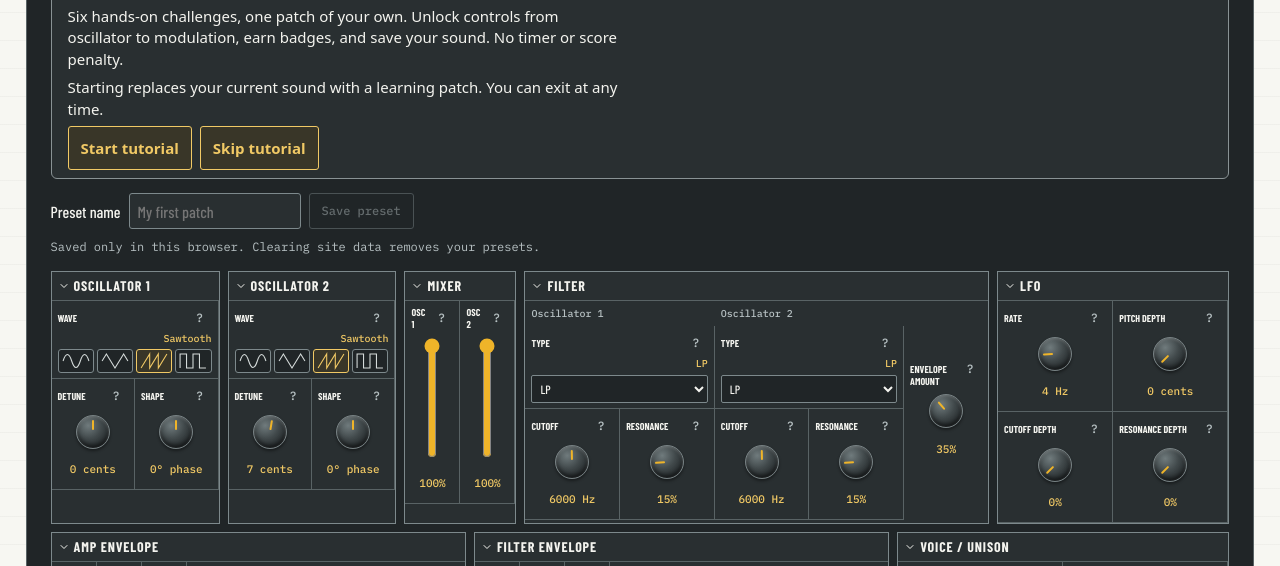
it: PatchGator › selects graphical waveforms independently and restores their defaults and presets
(page scrolled)
Check: the radio button named "Sawtooth" is checked, box 136,349 -> 172,373
Click the radio button named "Square": coordinates (193, 361) 175,349 -> 212,373
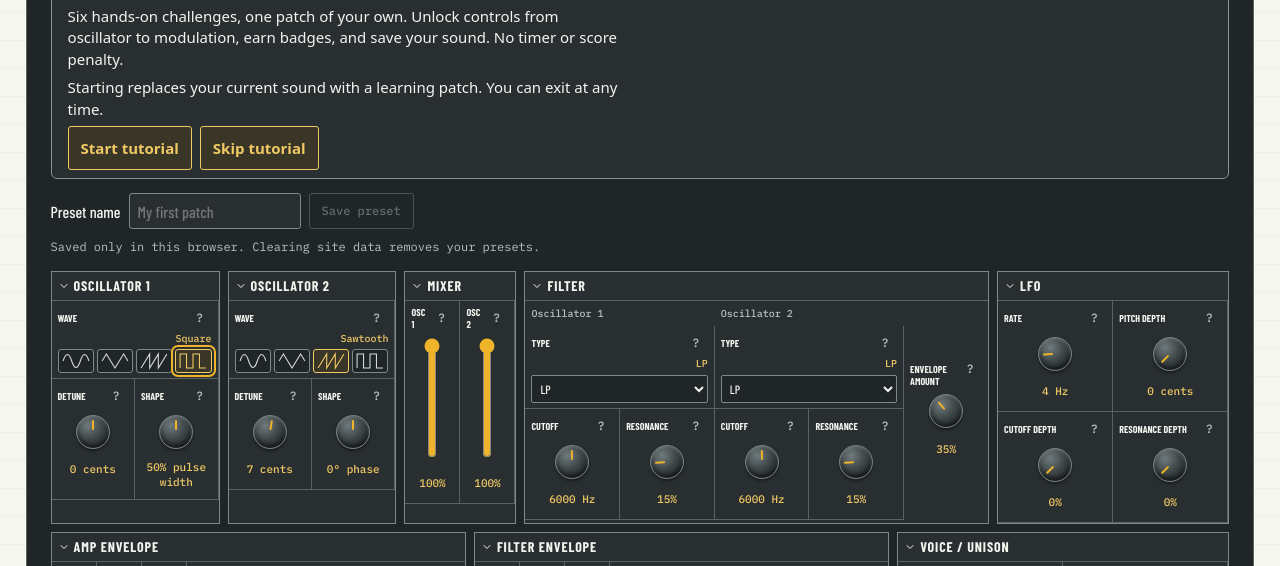
Click the radio button named "Sine": coordinates (253, 361) 234,349 -> 271,373
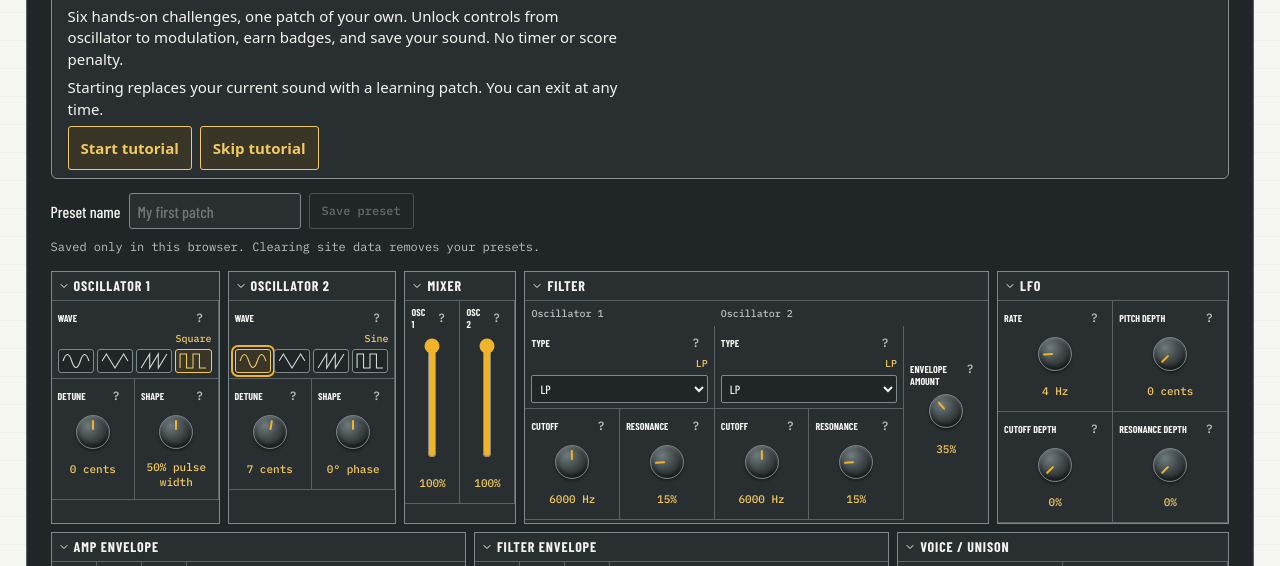
Press Delete in the radio button named "Square", box 175,349 -> 212,373
(page scrolled)
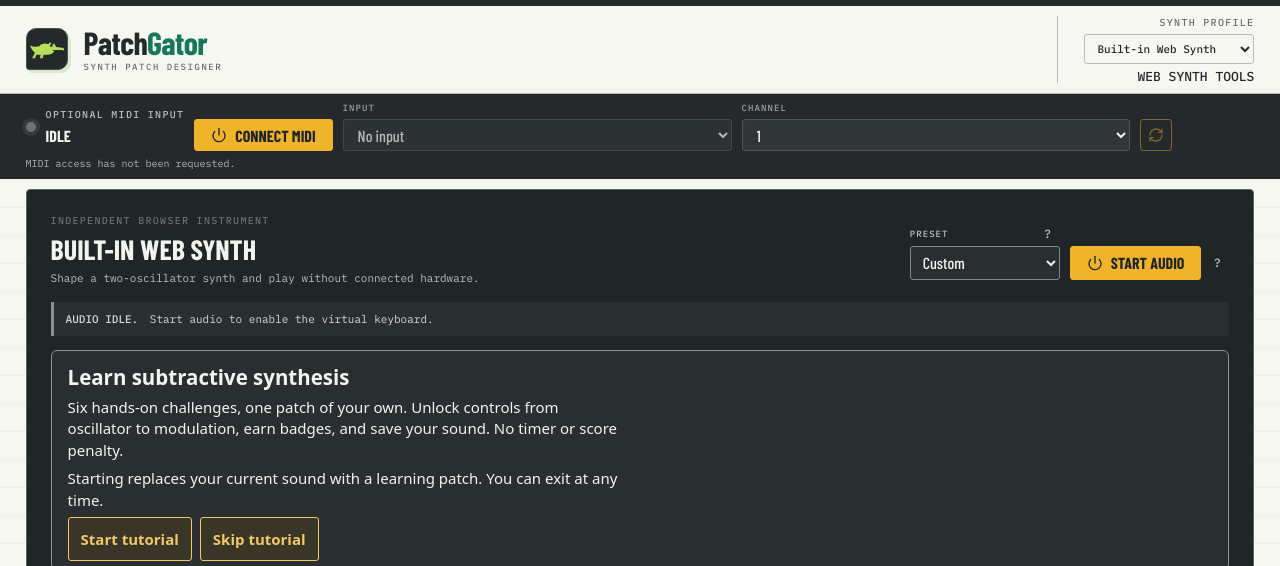
Select "Soft Pad" in the dropdown named "Web synth preset": coordinates (985, 263) 910,246 -> 1060,280
(page scrolled)
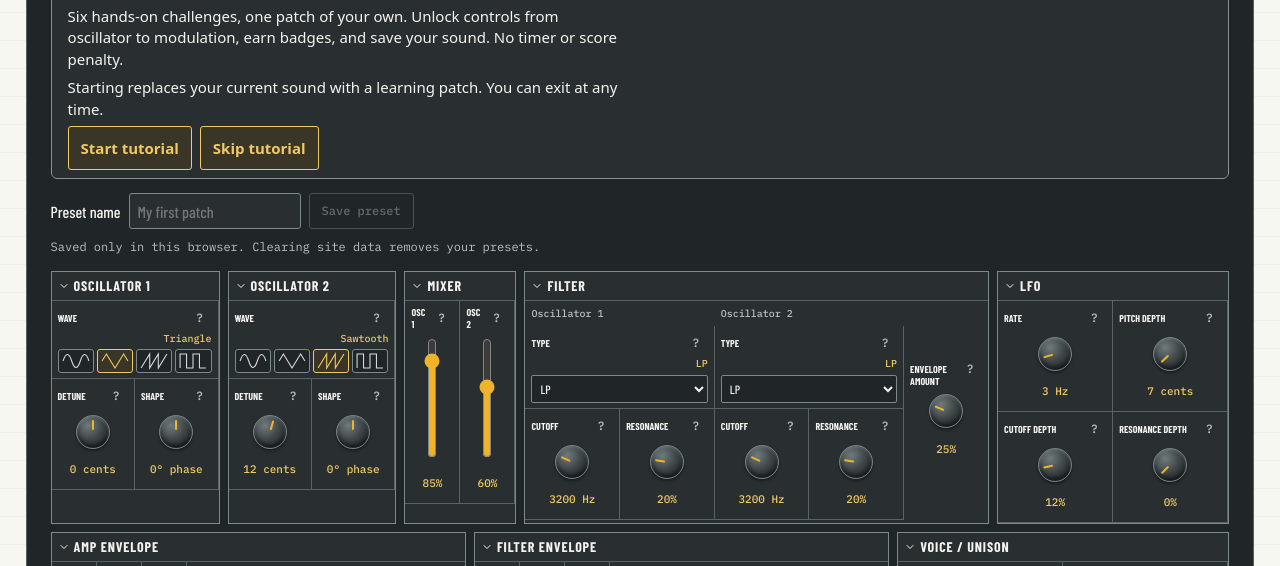
Check: the radio button named "Triangle" is checked, box 97,349 -> 133,373
Check: the radio button named "Sawtooth" is checked, box 313,349 -> 349,373
